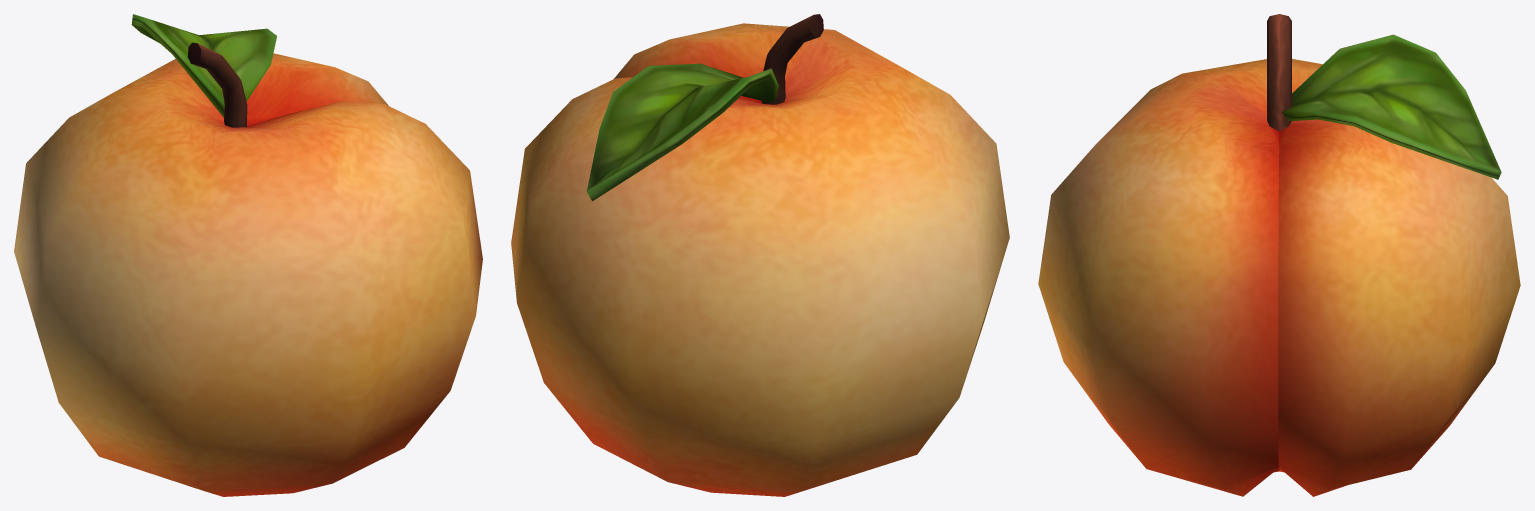
Rendered from Peach.fbx.
3 renders of one model, left to right at view 1: azimuth 30°, elevation 25°; view 2: azimuth 150°, elevation 25°; view 3: azimuth 270°, elevation 25°, orthographic. The views are drawn at different scales.
Parts seen in each view (by area): view 1: Peach; view 2: Peach; view 3: Peach.
Boxes of the visible parts, x1,y1,x2,y2 form: Peach: (14, 14, 482, 496); Peach: (511, 14, 1009, 496); Peach: (1038, 14, 1520, 496).
Bounding box in the file's own units: 30.96 × 31.81 × 31.94.
